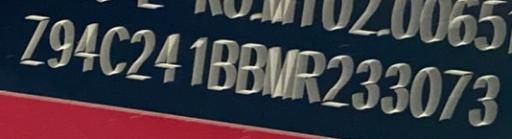letter: (466, 71, 504, 125), (262, 45, 298, 98), (436, 66, 472, 119), (350, 57, 384, 110), (18, 13, 50, 68), (124, 27, 156, 80), (206, 37, 238, 90), (293, 48, 325, 101), (380, 61, 412, 114), (235, 42, 267, 93), (98, 25, 130, 74), (154, 30, 182, 83), (324, 54, 352, 107), (410, 67, 440, 116), (48, 18, 76, 69), (74, 21, 102, 72), (184, 35, 208, 86)
